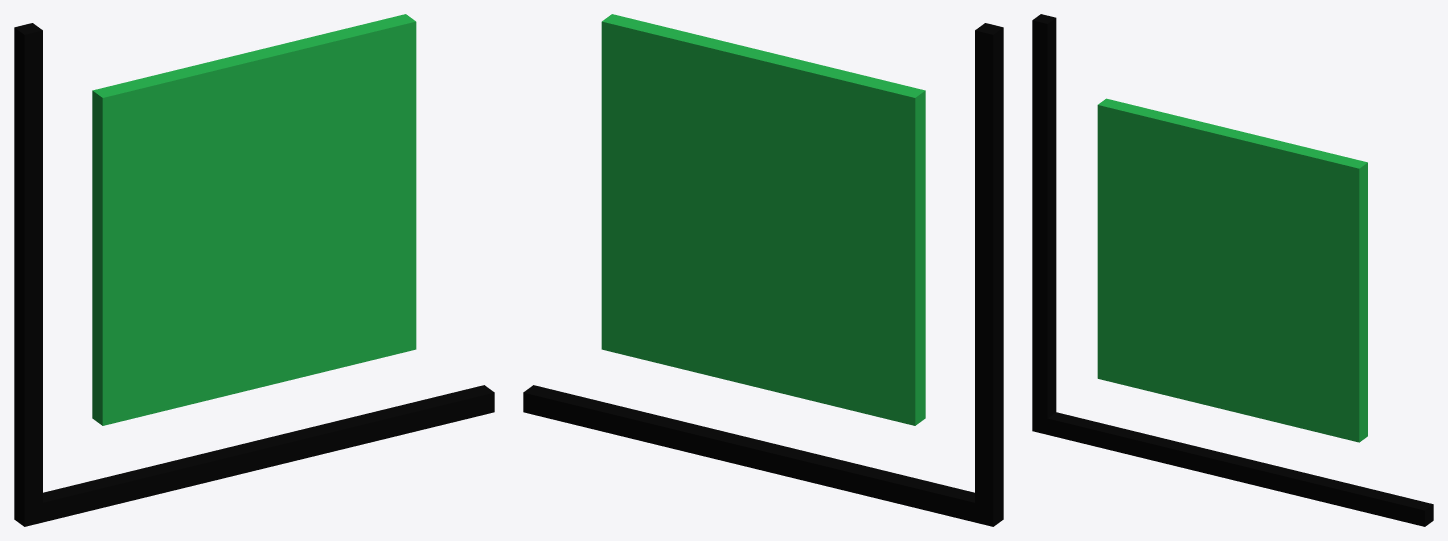
File: cuadrado.gltf
3 views of the same model, side by side, from view 1: azimuth 30°, elevation 25°; view 2: azimuth 150°, elevation 25°; view 3: azimuth 330°, elevation 25° (orthographic). The views are drawn at different scales.
Bounding box in the file's own units: 0.06 × 0.06 × 0.00228.
